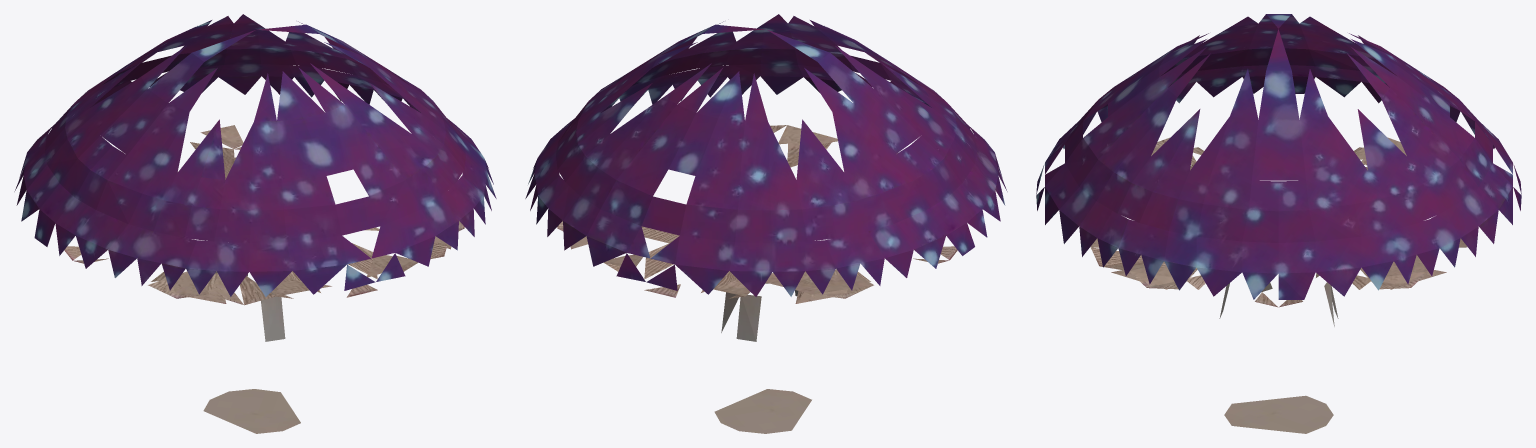
The model's file is tree_mushroom_LOD2.glb.
The picture shows the model from 3 angles, left to right: view 1: azimuth 30°, elevation 25°; view 2: azimuth 150°, elevation 25°; view 3: azimuth 270°, elevation 25°; orthographic projection.
Parts seen in each view (by area): view 1: tree_mushroom_LOD2; view 2: tree_mushroom_LOD2; view 3: tree_mushroom_LOD2.
Part boxes in pixels (x1=…): tree_mushroom_LOD2: x1=14, y1=14, x2=496, y2=433; tree_mushroom_LOD2: x1=525, y1=14, x2=1007, y2=433; tree_mushroom_LOD2: x1=1036, y1=14, x2=1521, y2=433.
Size of the model in its own units: 1 by 0.8747 by 0.9961.
1 material, 1 textured.
